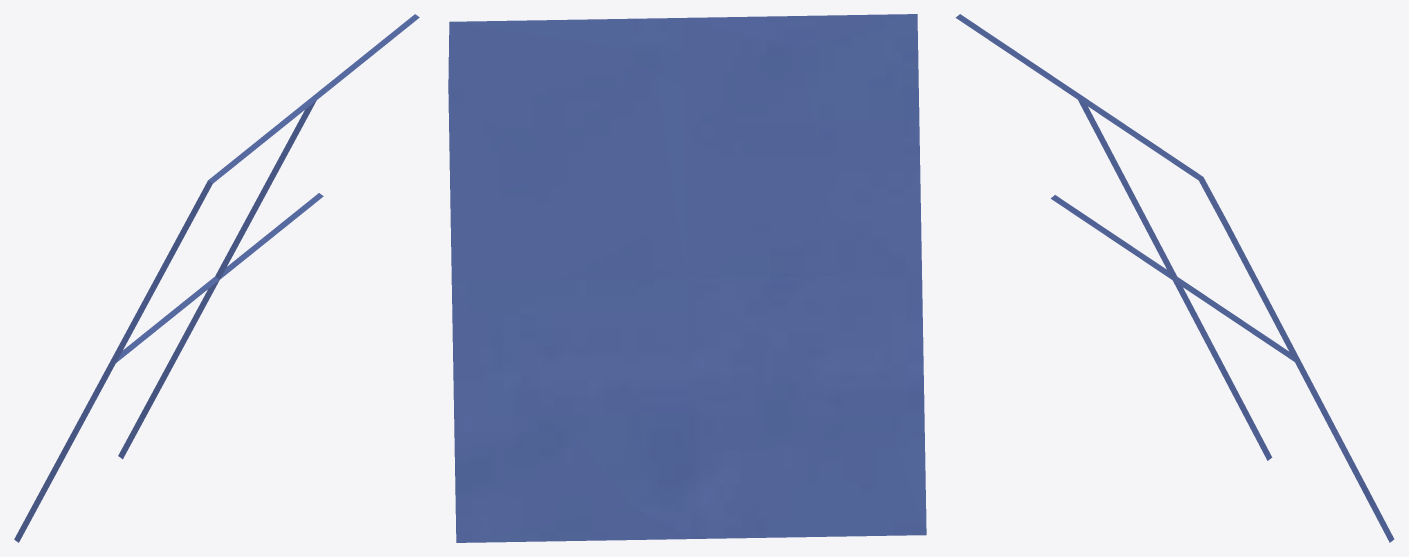
The picture shows the model from 3 angles, left to right: view 1: azimuth 30°, elevation 25°; view 2: azimuth 150°, elevation 25°; view 3: azimuth 270°, elevation 25°; orthographic projection. The views are drawn at different scales.
Bounding box in the file's own units: 19645 × 17686 × 16966.
1 material, 1 textured.
